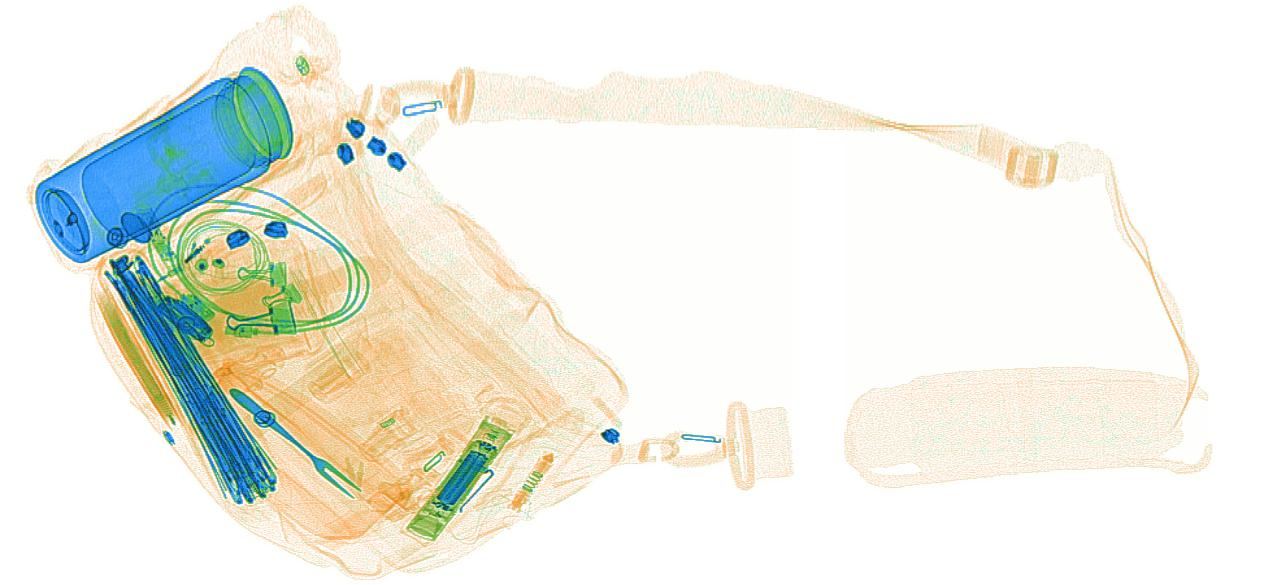battery: (432, 448, 488, 506)
knife: (155, 292, 213, 342)
